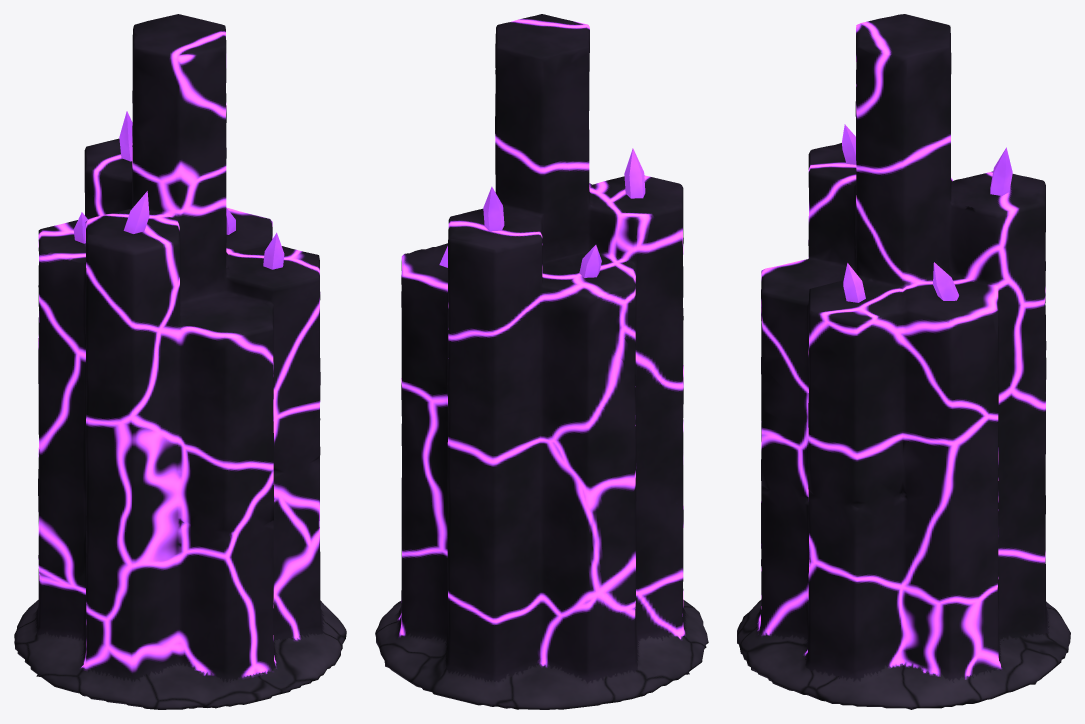
File: columna_basalto_alien.fbx
3 renders of one model, left to right at view 1: azimuth 30°, elevation 25°; view 2: azimuth 150°, elevation 25°; view 3: azimuth 270°, elevation 25°, orthographic.
Parts seen in each view (by area): view 1: columnas, cristales_neon; view 2: columnas, cristales_neon; view 3: columnas, cristales_neon.
Part boxes in pixels (bbox=[...]): columnas: bbox=[14, 14, 346, 709]; cristales_neon: bbox=[73, 111, 284, 269]; columnas: bbox=[375, 14, 708, 709]; cristales_neon: bbox=[439, 148, 645, 277]; columnas: bbox=[737, 14, 1070, 709]; cristales_neon: bbox=[842, 124, 1012, 302].
Size of the model in its own units: 4 by 8 by 4.
1 material, 1 textured.
